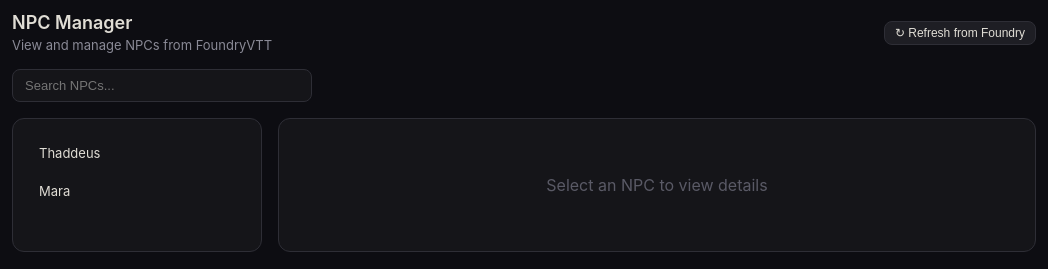
Test: NPCManager › shows the selected NPC's details
Click the button "Thaddeus": {"x": 137, "y": 153} [29,135,245,171]
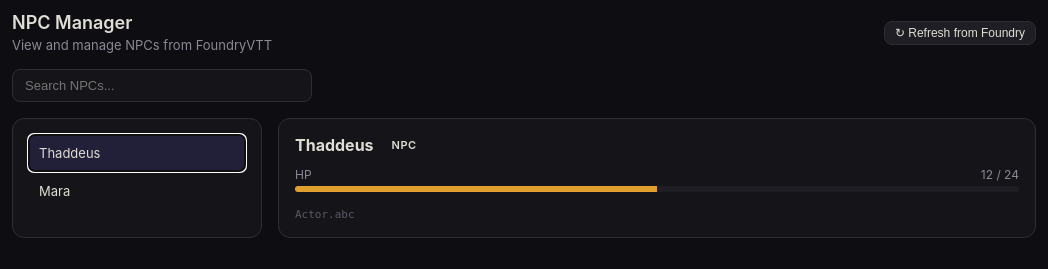
Expected: the heading "Thaddeus" is shown, [295,135,374,155]
Expected: the text "12 / 24" is shown, [981,167,1019,182]
Expected: the text "Actor.abc" is shown, [295,208,355,221]
